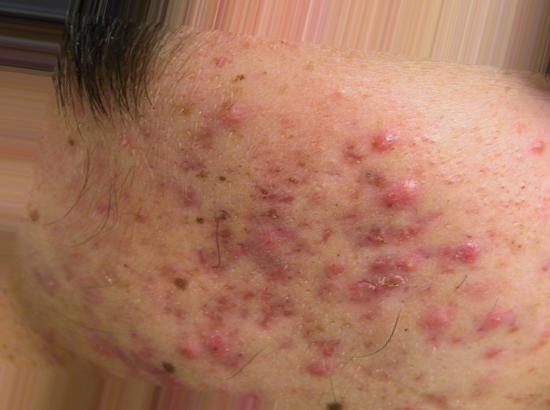Acne: (64, 90, 532, 396)
